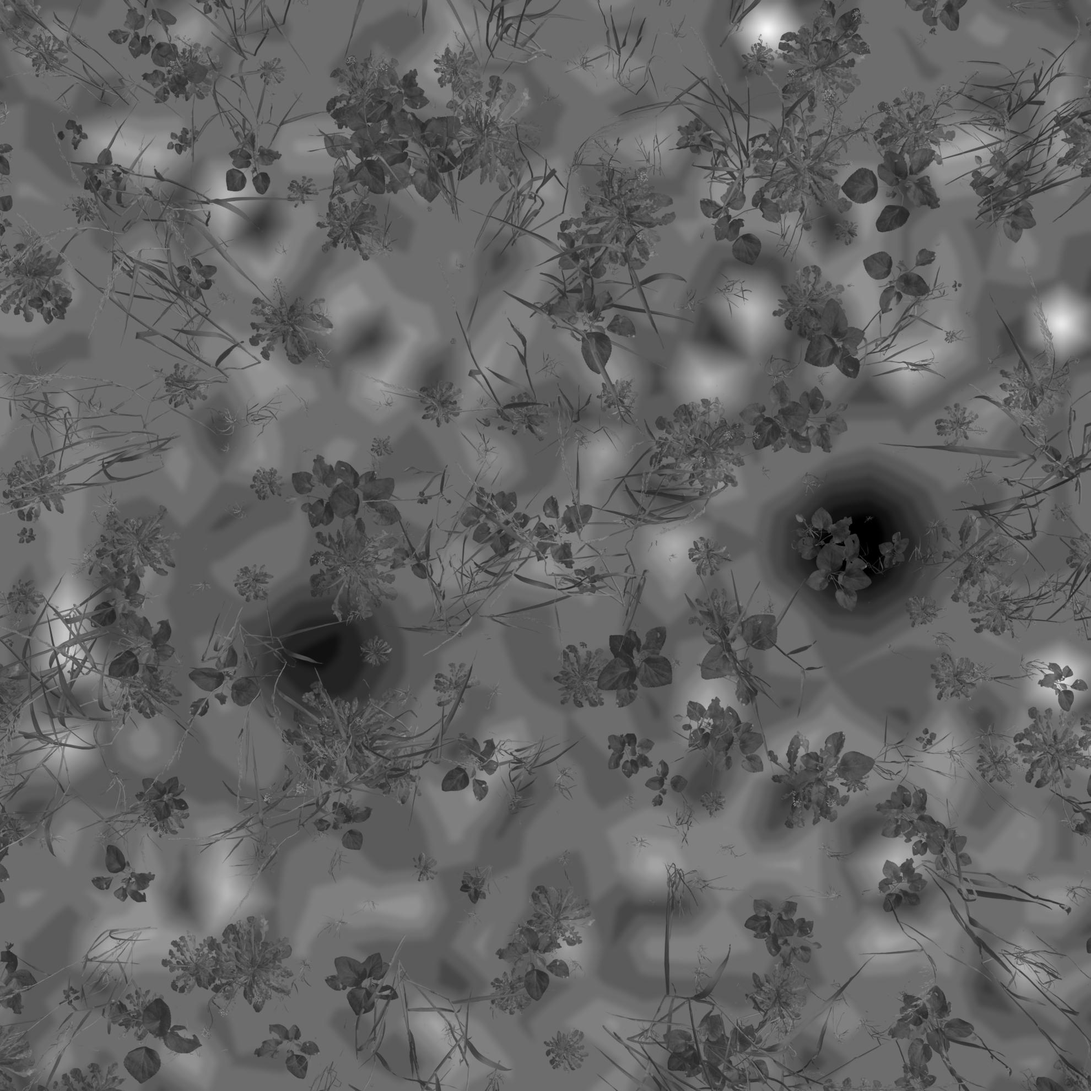landmine: (782, 478, 923, 614), (251, 591, 392, 723)
